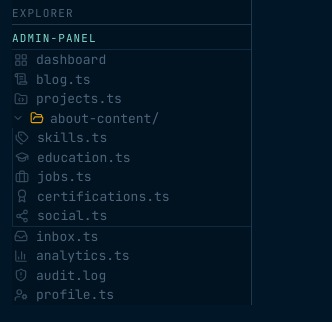
Scenario: AdminExplorer › collapses and expands the about-content folder
Expected: the link titled "skills.ts" is shown, [15, 129, 107, 146]
Click the button "about-content/" at point(132, 118), box [12, 108, 251, 128]
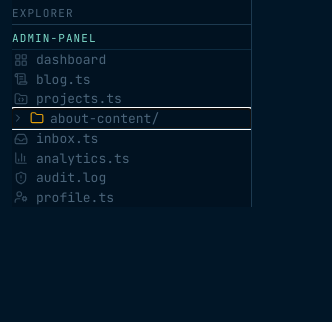
Expected: the link titled "inbox.ts" is shown, [14, 130, 98, 147]
Now the link titled "skills.ts" is gone
Click the button "about-content/" at point(132, 118), box [12, 108, 251, 128]
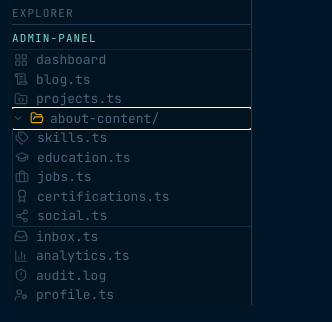
Now the link titled "skills.ts" is shown, box [15, 129, 107, 146]
